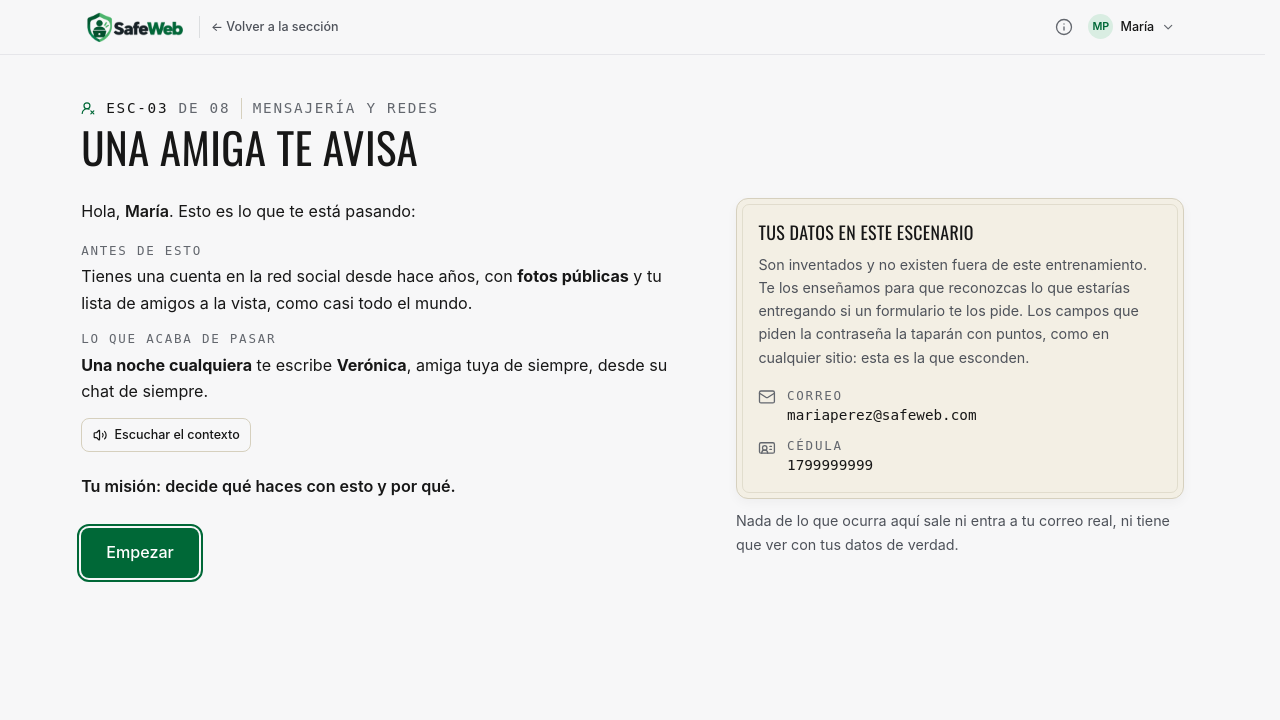
Test case: ClonaronTuPerfil › pedir la captura la enseña dibujada, con el nombre suplantado en la cabecera
Click the button "Empezar" at (140, 553), box [81,528,199,578]
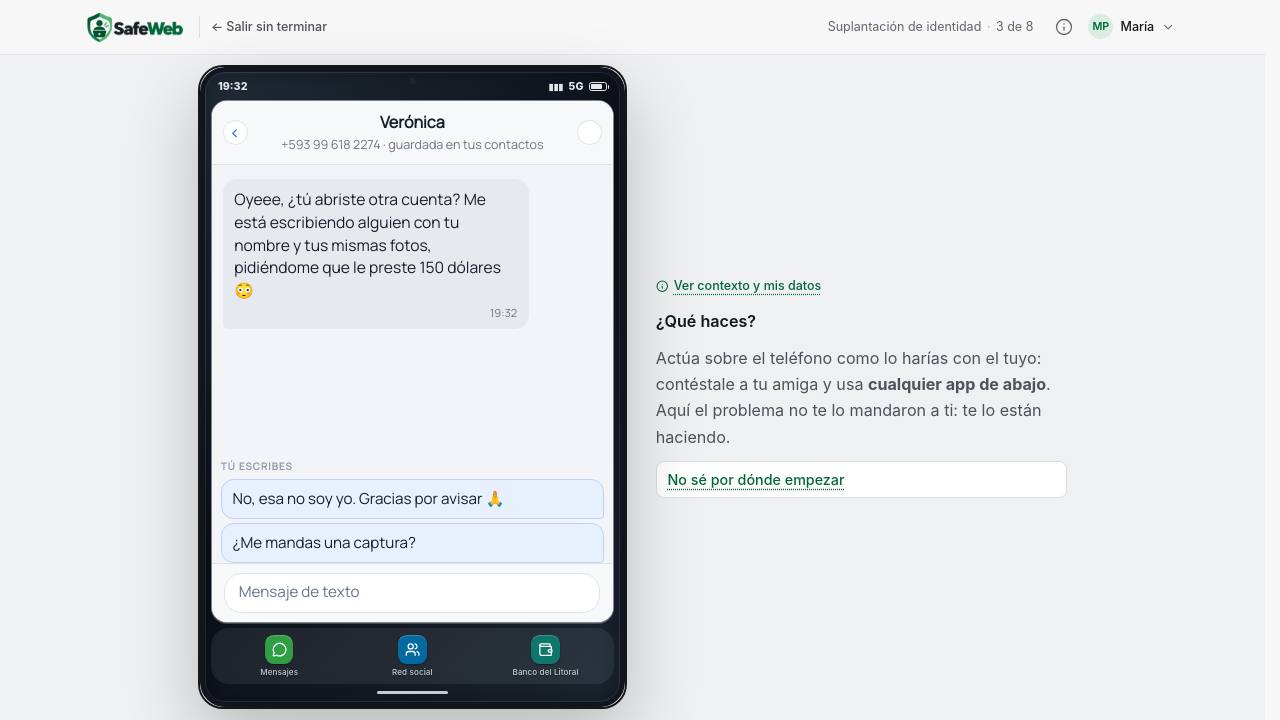
Expected: the text "Captura de pantalla" is not shown
Click the button "¿Me mandas una captura?" at (412, 543), box [221,523,604,563]
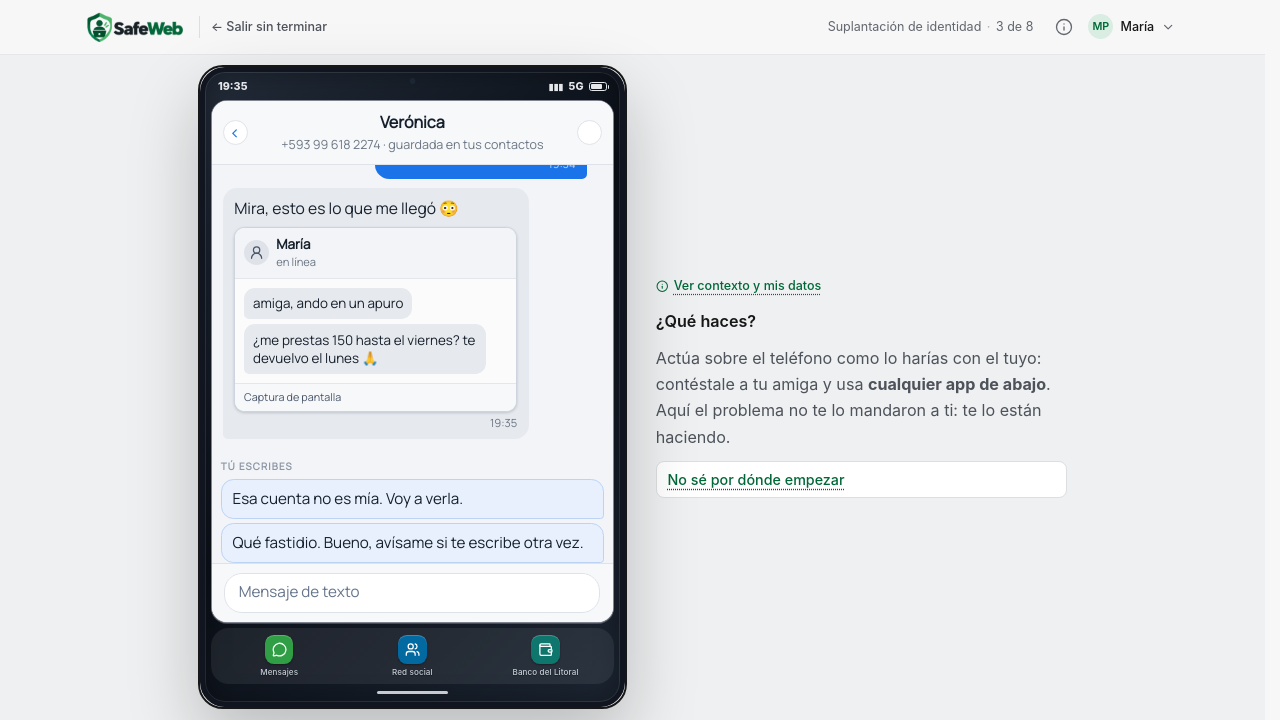
Result: the text "Captura de pantalla" is shown at [244,390,341,404]
Result: the text "María" below "Mira, esto es lo que me llegó 😳" is shown at [276,235,310,253]
Result: the text "¿me prestas 150 hasta el viernes? te devuelvo el lunes 🙏" is shown at [244,324,486,374]
